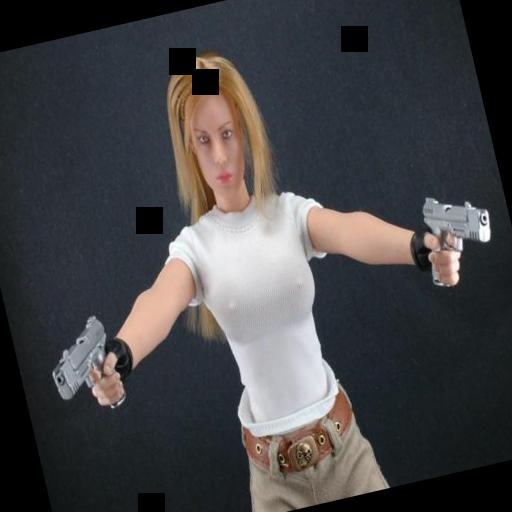Handgun: (32, 292, 145, 434), (410, 176, 508, 299)
